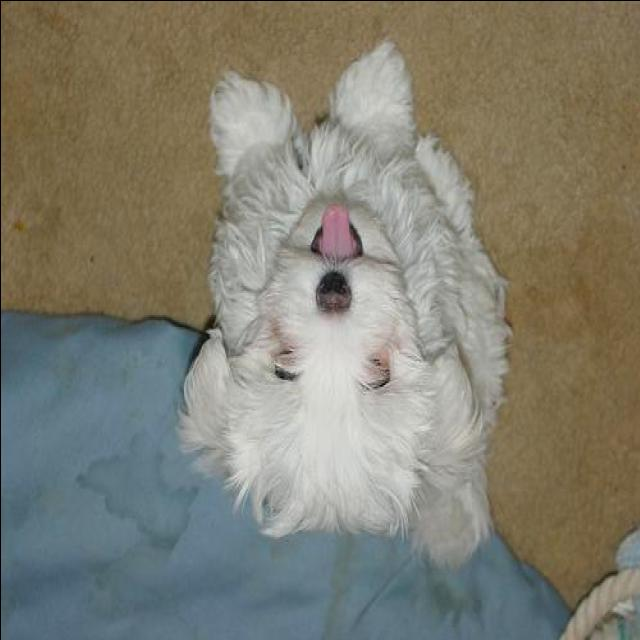maltese_dog: (177, 35, 510, 588)
